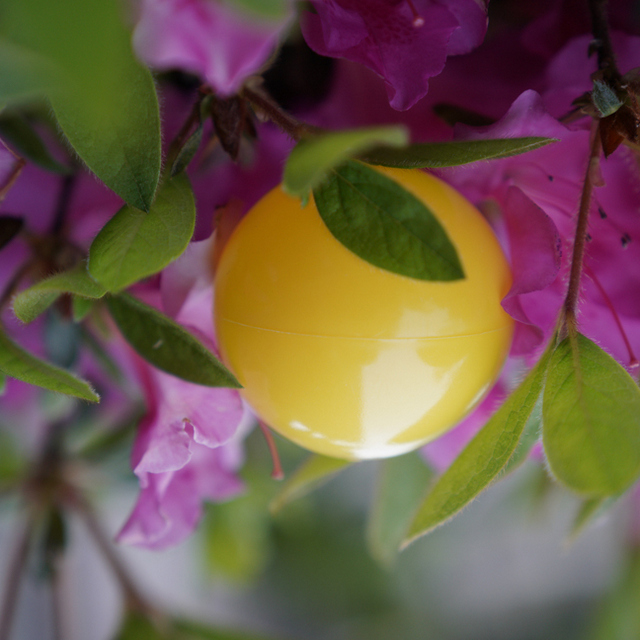Ball: (205, 163, 522, 455)
